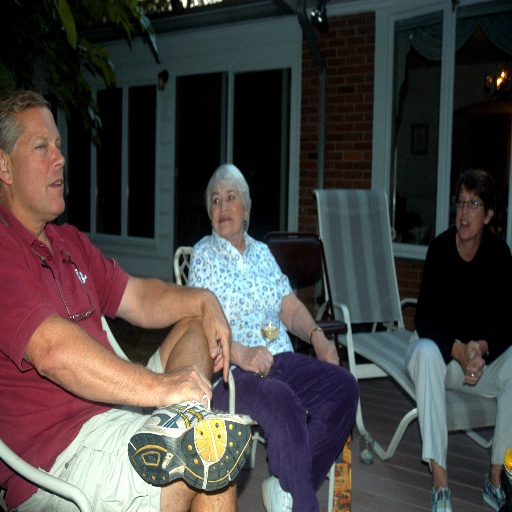hand: (200, 288, 232, 386), (160, 361, 213, 409), (238, 344, 274, 377), (462, 348, 485, 386), (314, 333, 338, 368)
